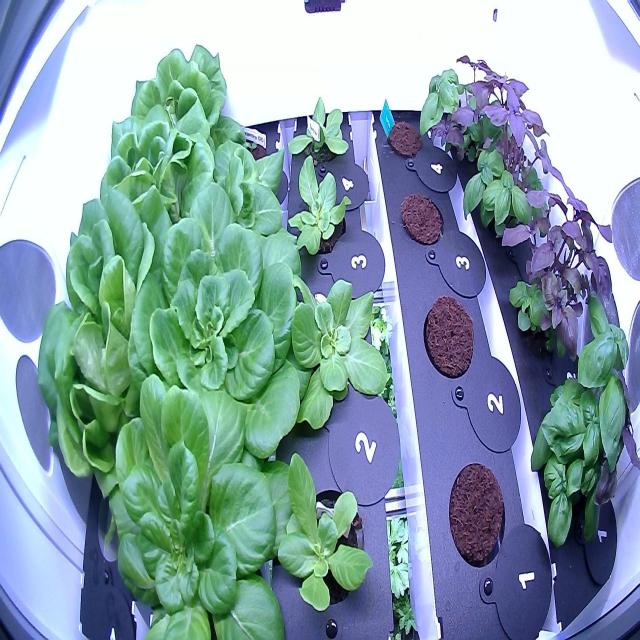Ready: (17, 191, 199, 490), (84, 100, 222, 272), (116, 34, 247, 176)
empty_pod: (84, 468, 144, 568)
germination: (222, 118, 270, 180)
pod: (439, 451, 508, 575), (421, 279, 476, 387), (396, 180, 449, 255), (384, 102, 428, 170)
young: (114, 177, 316, 460), (100, 364, 298, 638), (268, 437, 381, 627), (288, 268, 391, 441), (172, 132, 298, 252), (283, 152, 357, 264), (283, 91, 354, 183)
